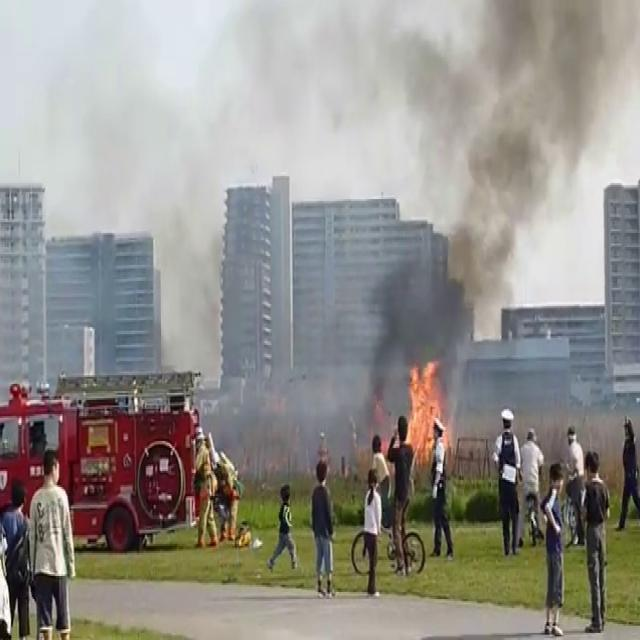Fire: (396, 352, 453, 462)
Smoke: (336, 0, 632, 399)
